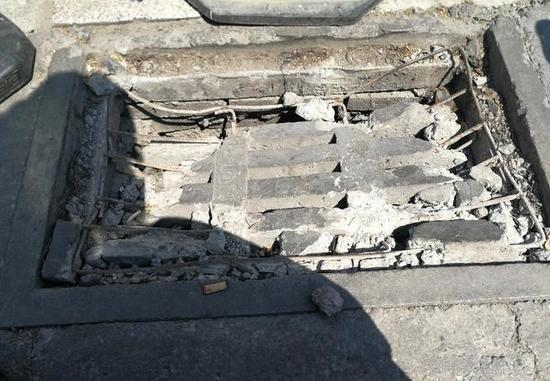wellcover: (65, 42, 550, 295)
